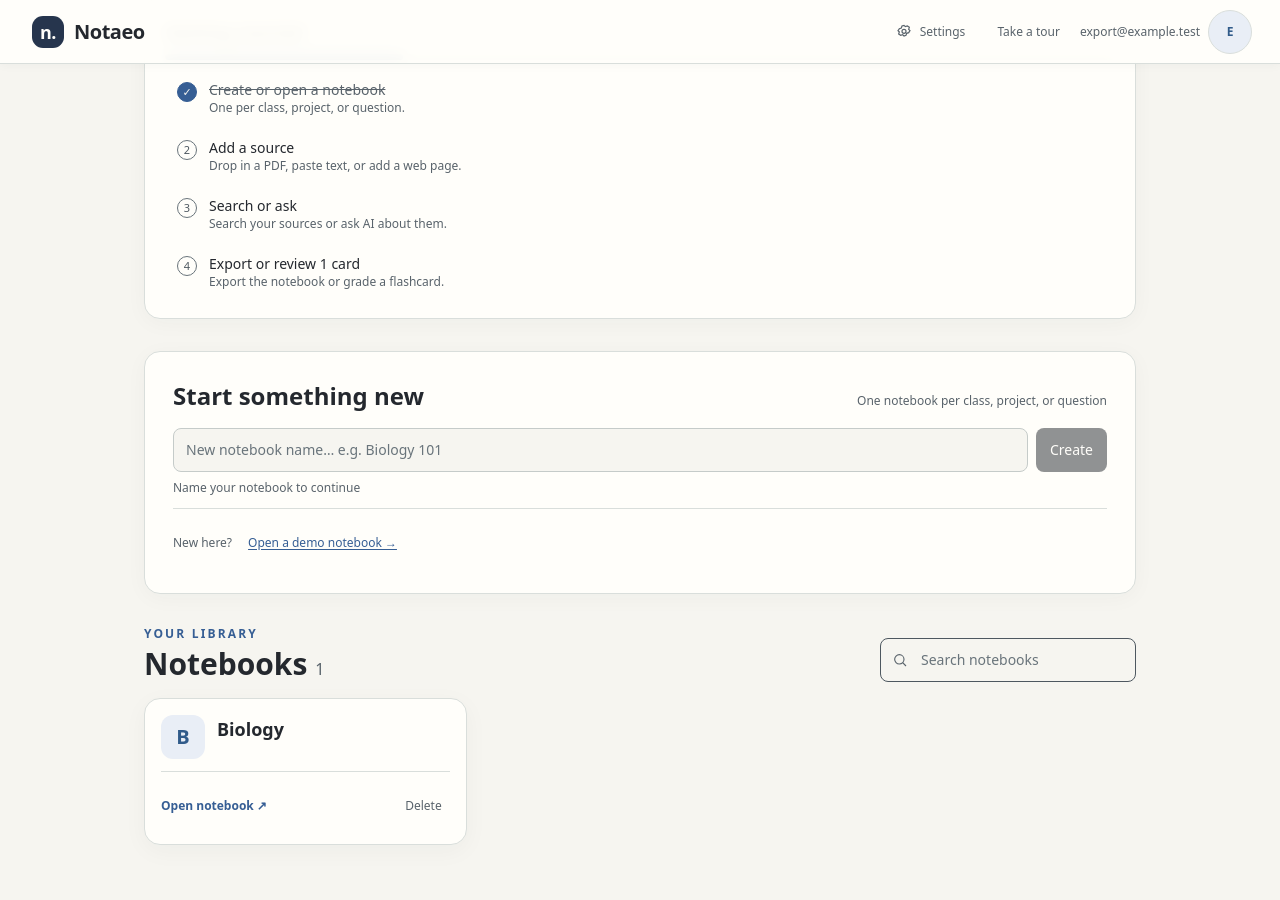
Test: nudges to add a source first instead of celebrating an empty export
(page scrolled)
Click the button with aria-label "Open Biology": point(183, 737) [161,715,450,759]
(page scrolled)
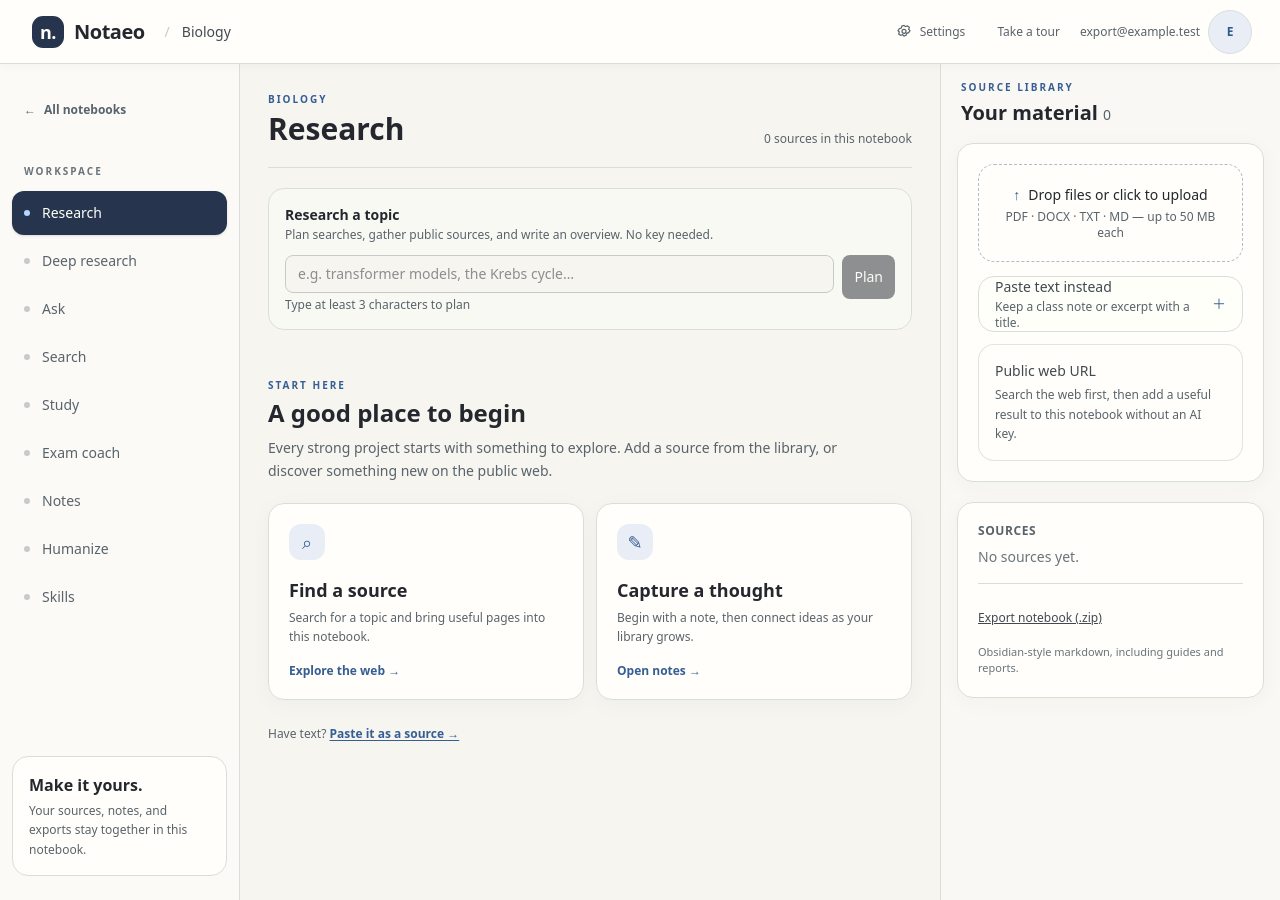
Click the button "Export notebook (.zip)": point(1040, 618) [978,596,1102,640]
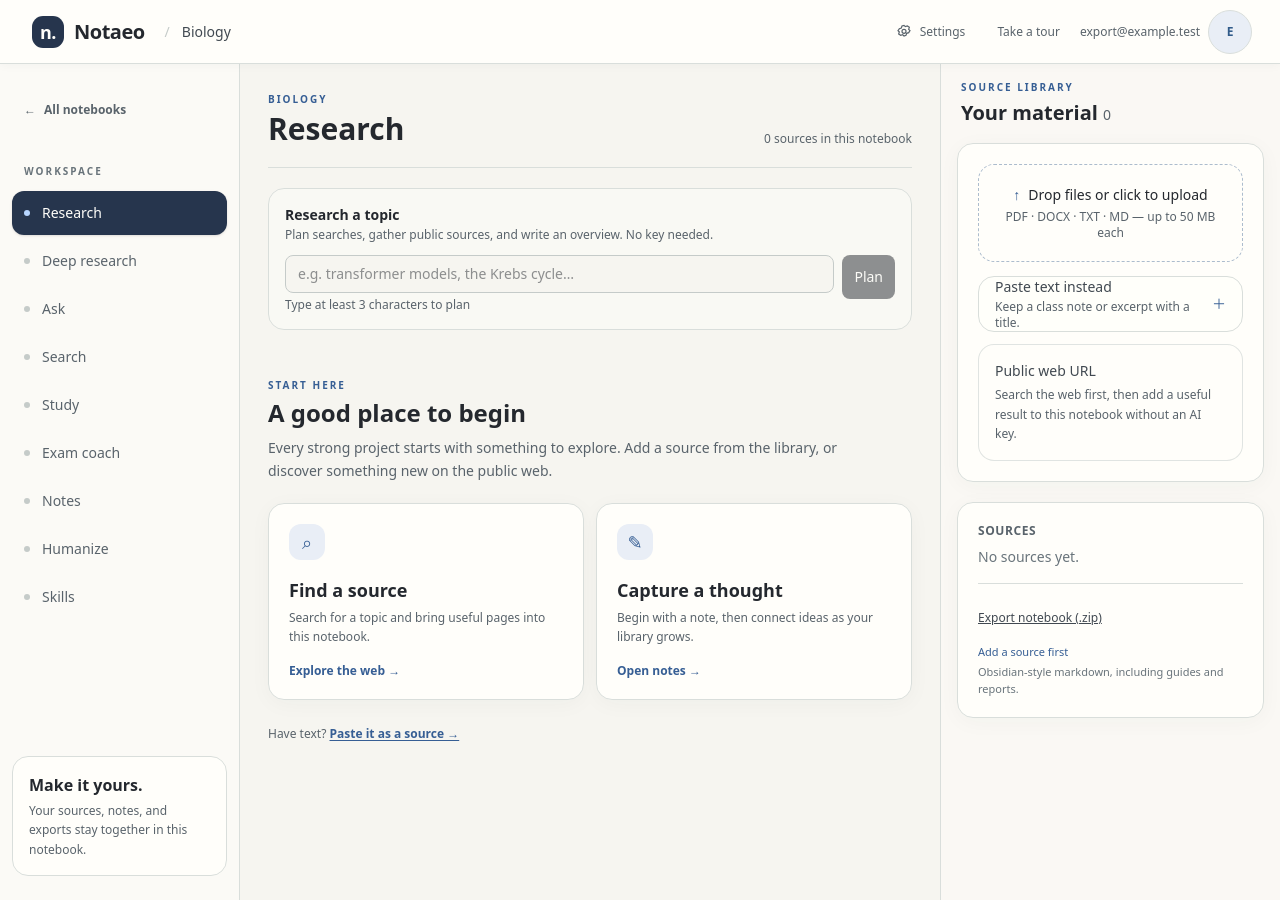
Check: the text "Add a source first" is shown, box [978,644,1068,658]
